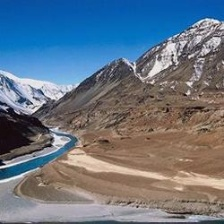neutral: (2, 8, 224, 214)
